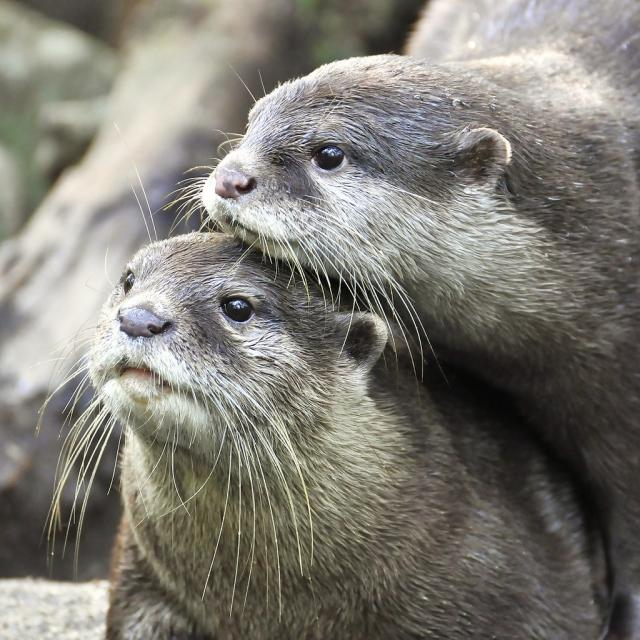otter: (93, 232, 581, 640), (204, 52, 640, 290)
